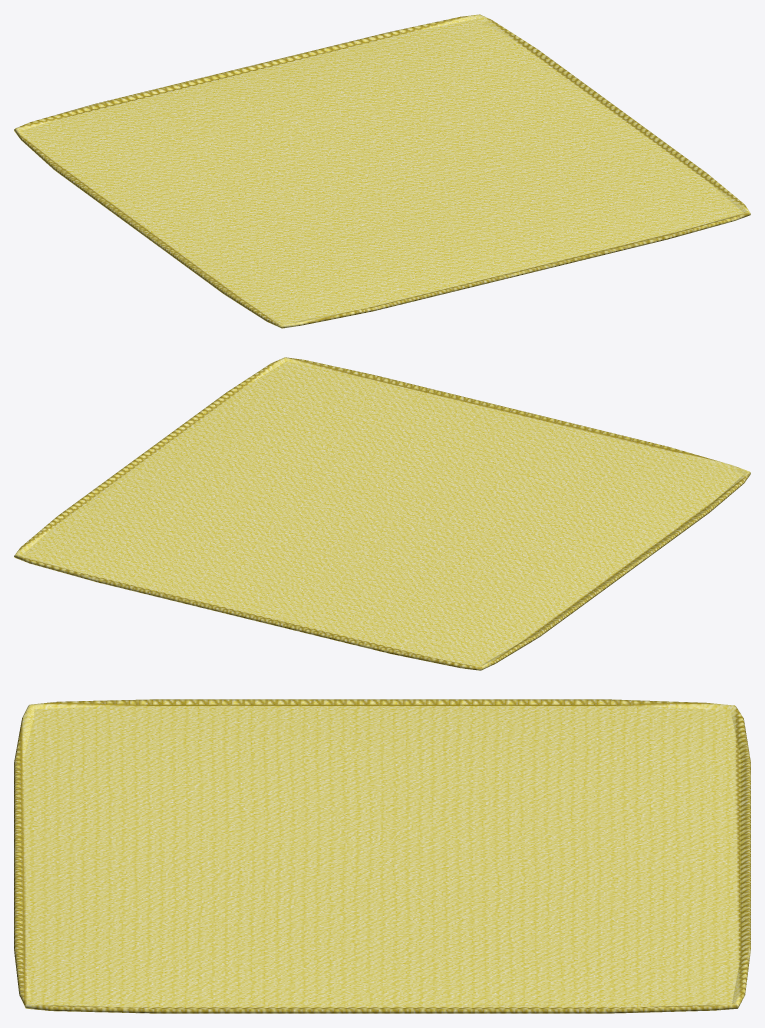
Rendered from rag_tex.fbx.
3 renders of one model, top to bottom at view 1: azimuth 30°, elevation 25°; view 2: azimuth 150°, elevation 25°; view 3: azimuth 270°, elevation 25°, orthographic. The views are drawn at different scales.
Parts seen in each view (by area): view 1: pPlane1; view 2: pPlane1; view 3: pPlane1.
Part boxes in pixels (x1=…): pPlane1: x1=14, y1=14, x2=750, y2=328; pPlane1: x1=14, y1=357, x2=750, y2=670; pPlane1: x1=14, y1=699, x2=750, y2=1013.
Bounding box in the file's own units: 11.22 × 0.0731 × 11.22.
1 material, 1 textured.
